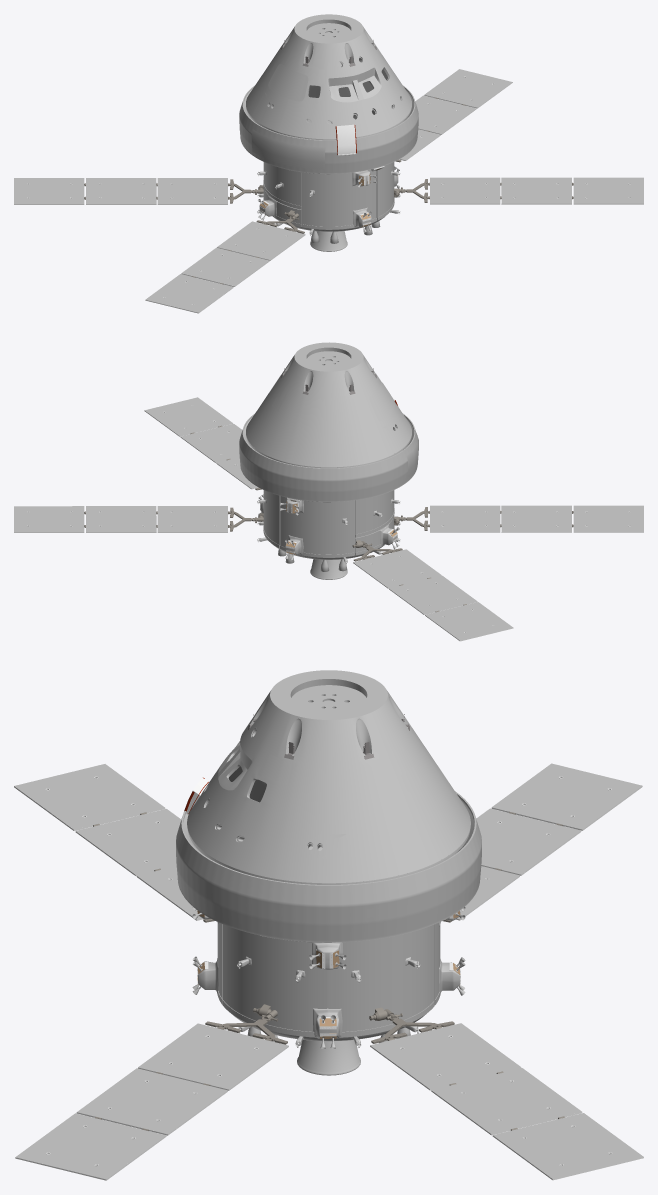
The model's file is artemis_ii.glb.
3 views of the same model, one above another, from view 1: azimuth 30°, elevation 25°; view 2: azimuth 150°, elevation 25°; view 3: azimuth 270°, elevation 25° (orthographic). The views are drawn at different scales.
Parts seen in each view (by area): view 1: retopo_shell, outter bus.001, solarArray.005, solarArray.002, solarArray.003, solarArray.004, nasaDecal.002, Cylinder.010, CMdecal.002, Cube.017, SMClasp; view 2: retopo_shell, outter bus.001, solarArray.002, solarArray.003, solarArray.004, solarArray.005, Cylinder.010, Cube.017, CMdecal.002; view 3: retopo_shell, outter bus.001, solarArray.004, solarArray.005, solarArray.002, solarArray.003, Cylinder.010, Cube.017, retopo_shell.009, retopo_shield, retopo_shell.006.
Boxes of the visible parts, box(x1,y1,x2,y2) form: retopo_shell: box(246, 14, 411, 139); outter bus.001: box(239, 85, 418, 229); solarArray.005: box(394, 177, 643, 204); solarArray.002: box(145, 210, 305, 313); solarArray.003: box(14, 178, 263, 204); solarArray.004: box(395, 69, 512, 162); nasaDecal.002: box(252, 129, 325, 169); Cylinder.010: box(259, 170, 398, 231); CMdecal.002: box(268, 64, 308, 101); Cube.017: box(257, 166, 399, 251); SMClasp: box(335, 124, 355, 154); retopo_shell: box(246, 342, 411, 467); outter bus.001: box(239, 413, 417, 557); solarArray.002: box(394, 505, 643, 532); solarArray.003: box(352, 540, 513, 641); solarArray.004: box(14, 506, 263, 532); solarArray.005: box(144, 397, 261, 490); Cylinder.010: box(260, 498, 397, 559); Cube.017: box(258, 494, 399, 579); CMdecal.002: box(369, 382, 394, 421); retopo_shell: box(187, 670, 470, 883); outter bus.001: box(176, 791, 481, 1037); solarArray.004: box(369, 1007, 643, 1180); solarArray.005: box(15, 1004, 288, 1180); solarArray.002: box(14, 764, 214, 922); solarArray.003: box(443, 763, 642, 922); Cylinder.010: box(197, 910, 460, 1041); Cube.017: box(192, 907, 465, 1075); retopo_shell.009: box(318, 834, 350, 880); retopo_shield: box(187, 828, 470, 884); retopo_shell.006: box(257, 753, 294, 785).
Bounding box in the file's own units: 17.63 × 7.26 × 11.28.
24 materials, 14 textured.
